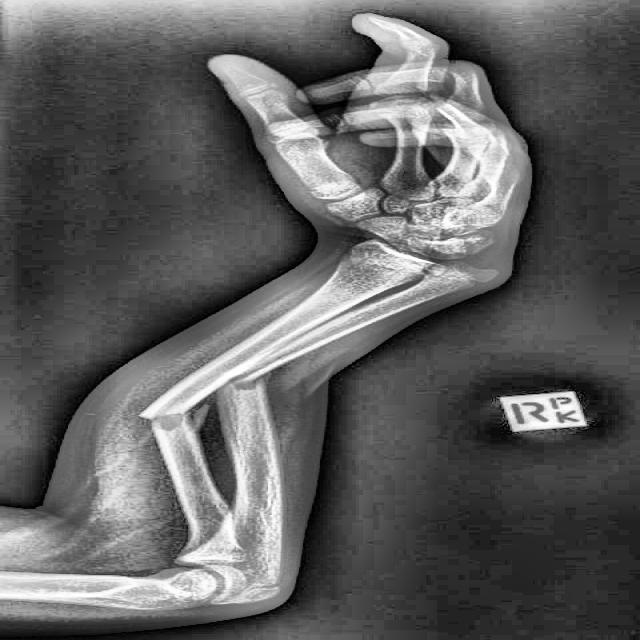fracture: (141, 406, 196, 436), (216, 369, 269, 398), (452, 130, 492, 145), (384, 81, 433, 91), (480, 152, 511, 160)
